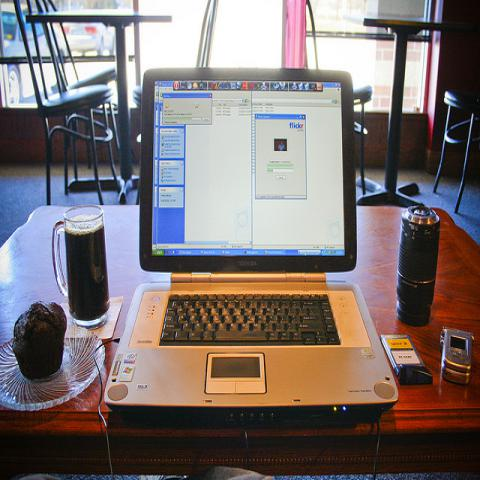car: (0, 3, 71, 106), (63, 23, 116, 57)
